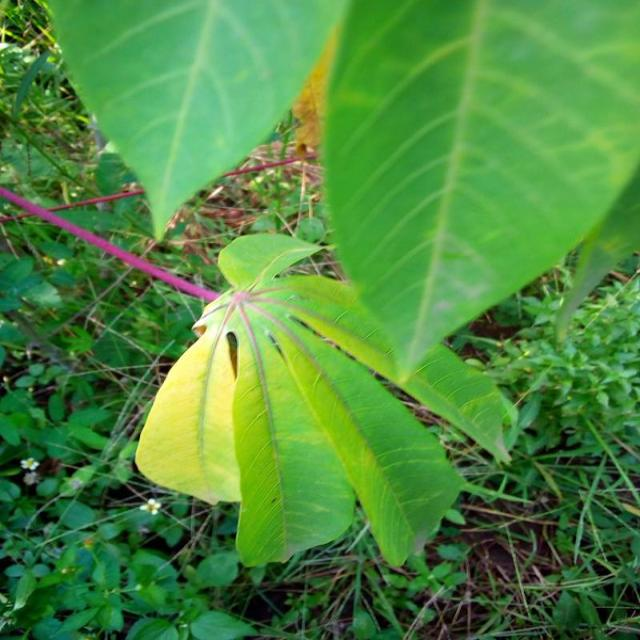cassava leaf: (134, 230, 511, 570), (321, 0, 639, 384), (42, 0, 348, 243)
